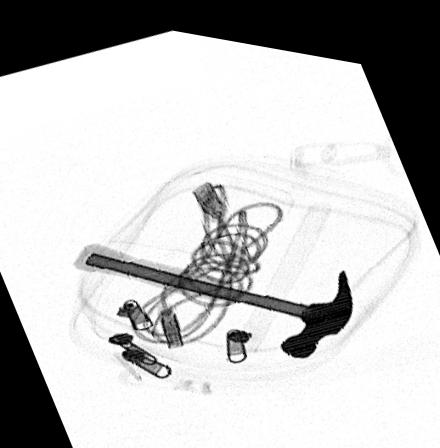Hammer: (71, 239, 354, 349)
